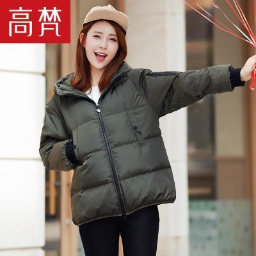face: (72, 12, 129, 92)
